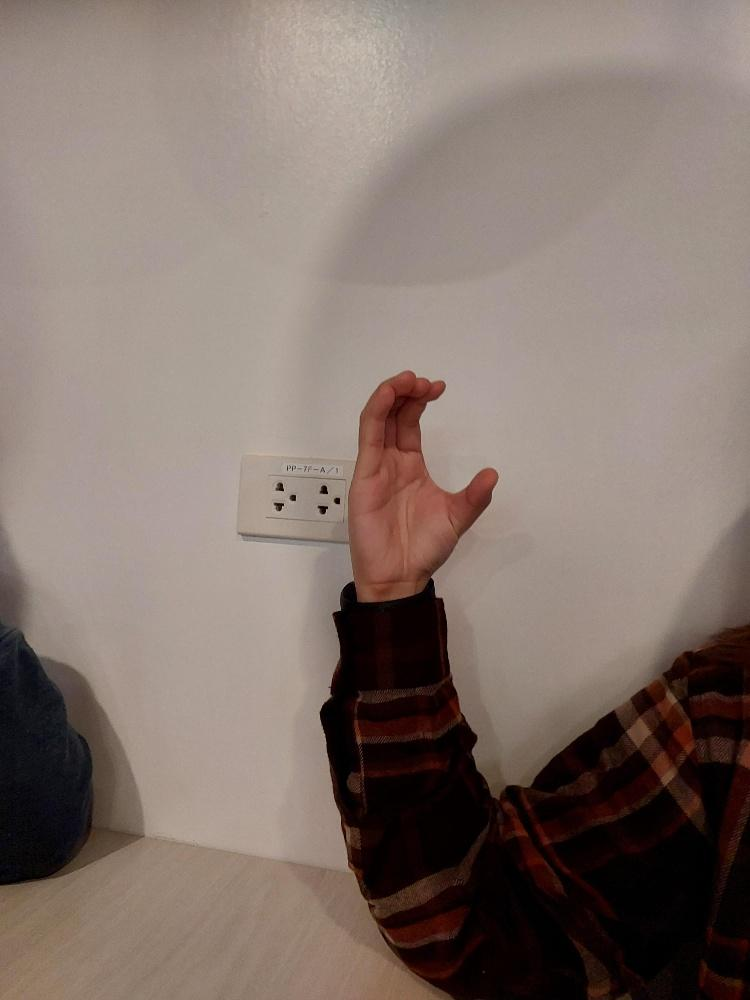c: (340, 365, 511, 600)
